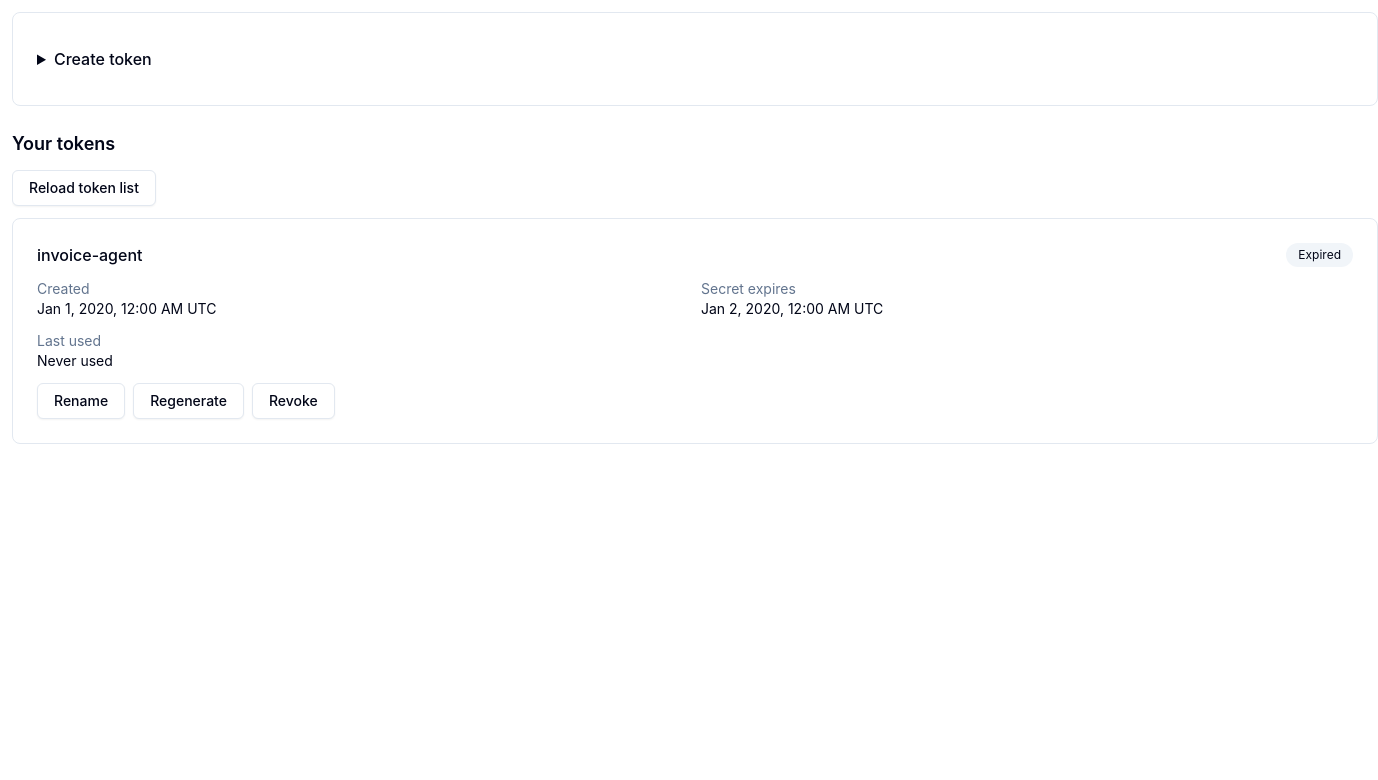
Test: delegation management interaction › Rename handles 401 immediately without polling
Click the button "Rename" at (81, 401), box x1=37 y1=383 x2=125 y2=419
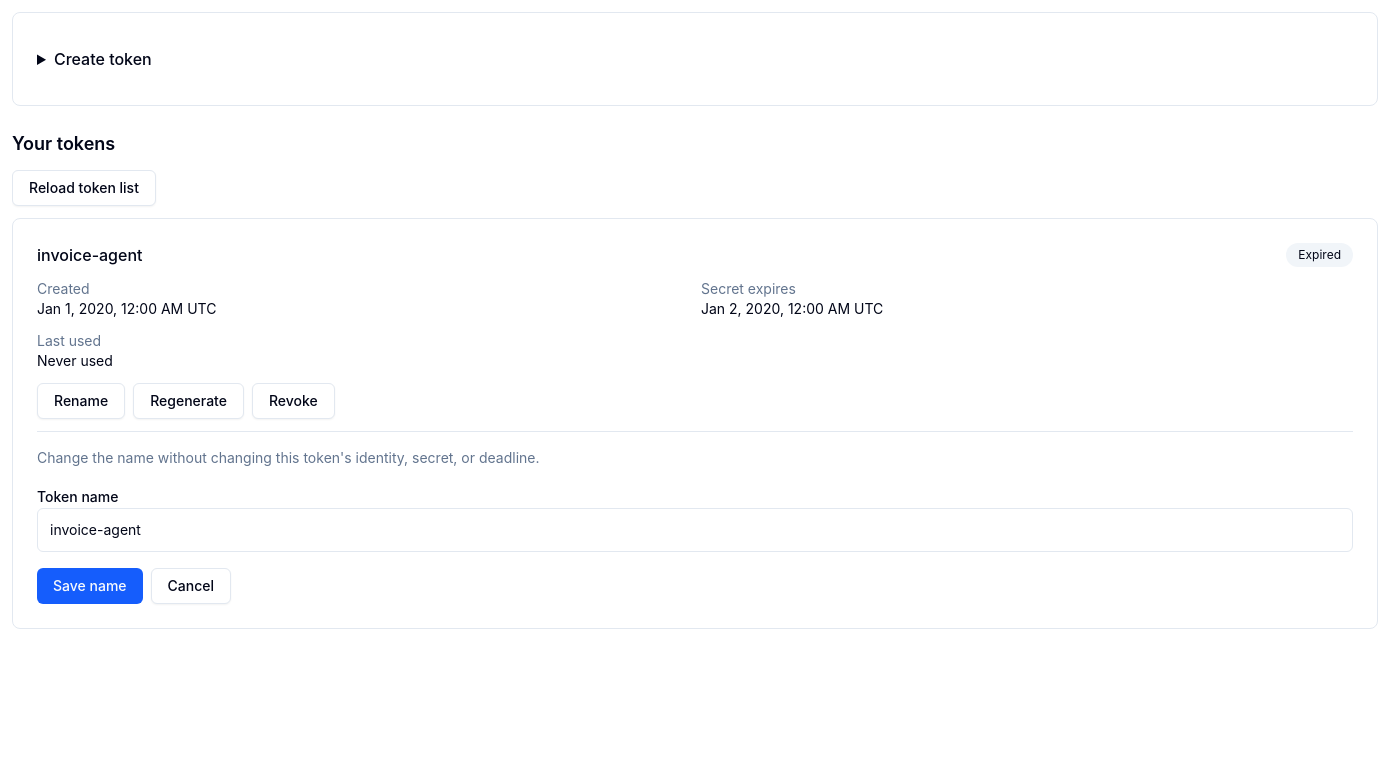
Submit the form, box x1=37 y1=431 x2=1353 y2=604
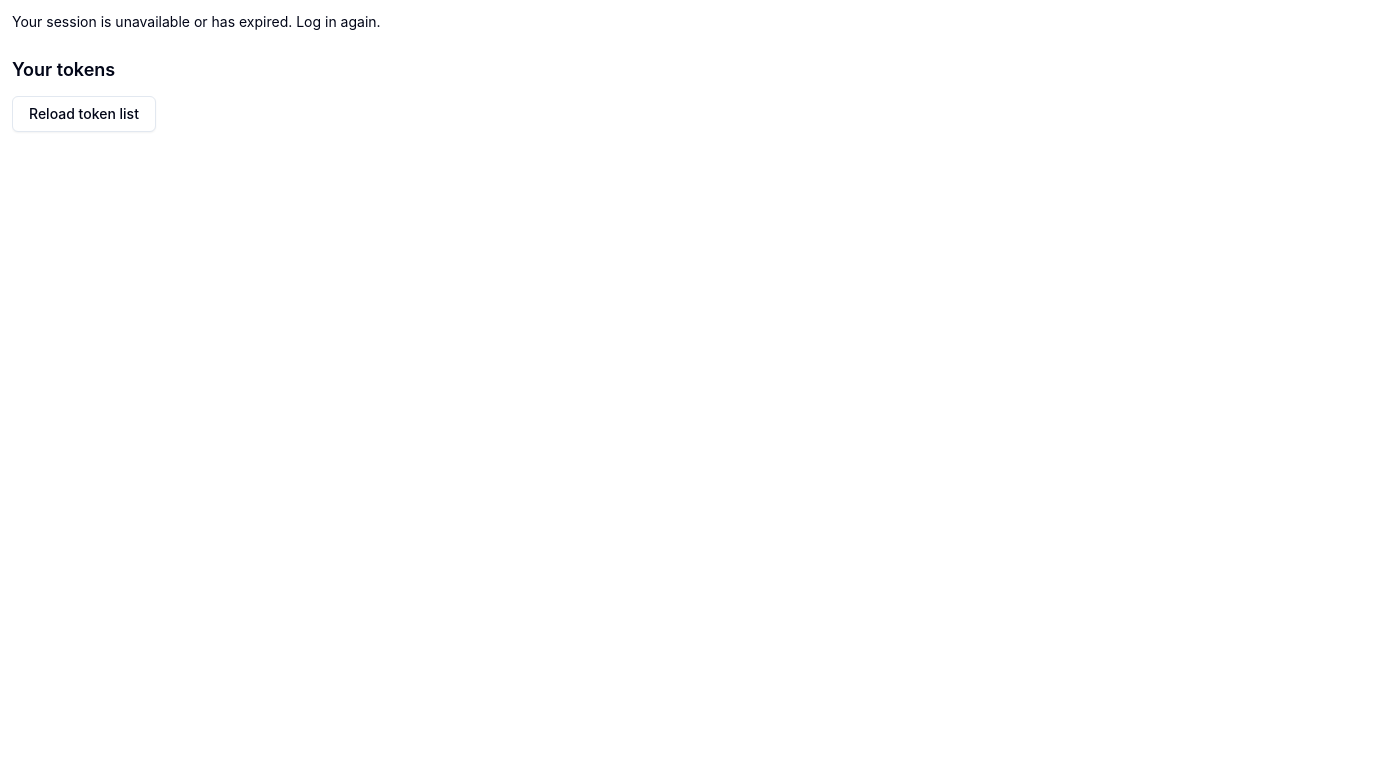
Expected: the text "Log in again" is shown, x1=12 y1=13 x2=381 y2=30
Expected: the form is gone
